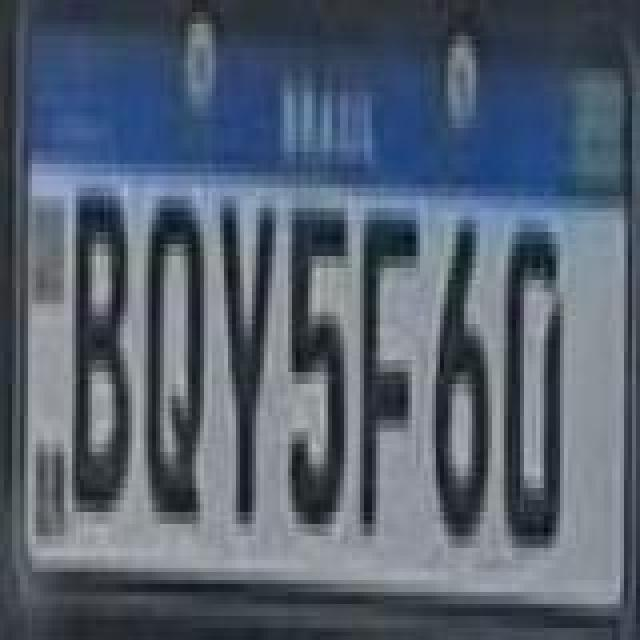5: (288, 204, 352, 532)
6: (436, 212, 492, 540)
B: (72, 188, 136, 516)
D: (504, 214, 568, 554)
F: (360, 212, 424, 540)
Q: (144, 190, 208, 530)
Y: (220, 196, 276, 524)
